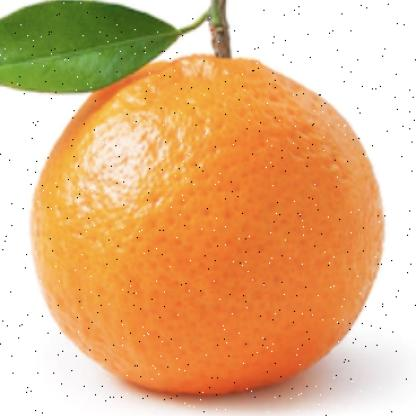fresh: (33, 37, 384, 393)
